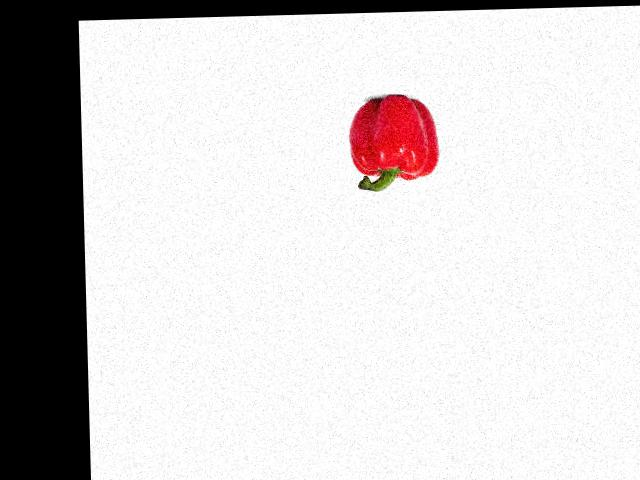bell_pepper: (345, 94, 445, 194)
